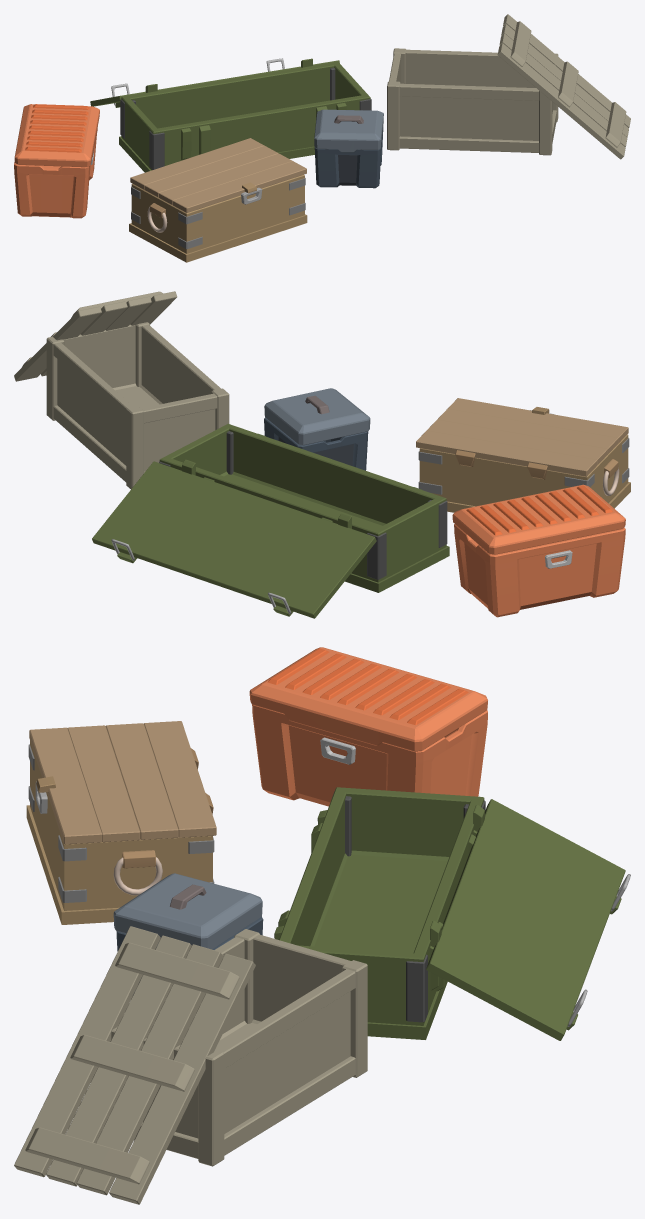
The model's file is crate.glb.
3 views of the same model, one above another, from view 1: azimuth 30°, elevation 25°; view 2: azimuth 150°, elevation 25°; view 3: azimuth 270°, elevation 25° (orthographic). The views are drawn at different scales.
Parts seen in each view (by area): view 1: SM_WeaponCrate_05_B, SM_WeaponCrate_04_B, SM_WeaponCrate_03_B, SM_WeaponCrate_03_L, SM_WeaponCrate_04_L, SM_WeaponCrate_02_L, SM_WeaponCrate_02_B, SM_WeaponCrate_01_L, SM_WeaponCrate_01_B, SM_WeaponCrate_05_L; view 2: SM_WeaponCrate_05_L, SM_WeaponCrate_04_B, SM_WeaponCrate_05_B, SM_WeaponCrate_02_B, SM_WeaponCrate_03_L, SM_WeaponCrate_03_B, SM_WeaponCrate_02_L, SM_WeaponCrate_01_L, SM_WeaponCrate_04_L, SM_WeaponCrate_01_B; view 3: SM_WeaponCrate_04_L, SM_WeaponCrate_05_B, SM_WeaponCrate_05_L, SM_WeaponCrate_04_B, SM_WeaponCrate_03_L, SM_WeaponCrate_02_L, SM_WeaponCrate_02_B, SM_WeaponCrate_03_B, SM_WeaponCrate_01_L.
Boxes of the visible parts, x1,y1,x2,y2 form: SM_WeaponCrate_05_B: [119, 58, 371, 172]; SM_WeaponCrate_04_B: [387, 48, 558, 155]; SM_WeaponCrate_03_B: [129, 174, 307, 262]; SM_WeaponCrate_03_L: [130, 138, 306, 212]; SM_WeaponCrate_04_L: [497, 14, 630, 159]; SM_WeaponCrate_02_L: [14, 104, 99, 167]; SM_WeaponCrate_02_B: [14, 135, 96, 218]; SM_WeaponCrate_01_L: [314, 109, 383, 152]; SM_WeaponCrate_01_B: [314, 127, 383, 188]; SM_WeaponCrate_05_L: [90, 58, 339, 107]; SM_WeaponCrate_05_L: [92, 461, 376, 618]; SM_WeaponCrate_04_B: [46, 322, 229, 488]; SM_WeaponCrate_05_B: [159, 423, 449, 592]; SM_WeaponCrate_02_B: [454, 524, 625, 617]; SM_WeaponCrate_03_L: [416, 398, 628, 476]; SM_WeaponCrate_03_B: [418, 434, 630, 512]; SM_WeaponCrate_02_L: [452, 484, 625, 554]; SM_WeaponCrate_01_L: [264, 388, 370, 445]; SM_WeaponCrate_04_L: [14, 291, 177, 381]; SM_WeaponCrate_01_B: [264, 417, 368, 470]; SM_WeaponCrate_04_L: [14, 926, 255, 1204]; SM_WeaponCrate_05_B: [274, 787, 485, 1039]; SM_WeaponCrate_05_L: [426, 799, 630, 1040]; SM_WeaponCrate_04_B: [93, 929, 367, 1166]; SM_WeaponCrate_03_L: [29, 721, 216, 844]; SM_WeaponCrate_02_L: [249, 647, 487, 751]; SM_WeaponCrate_02_B: [252, 704, 487, 806]; SM_WeaponCrate_03_B: [26, 740, 214, 924]; SM_WeaponCrate_01_L: [113, 873, 262, 949].
Bounding box in the file's own units: 4.01 × 0.7149 × 2.29.
Materials: 1 (1 with a texture image).
